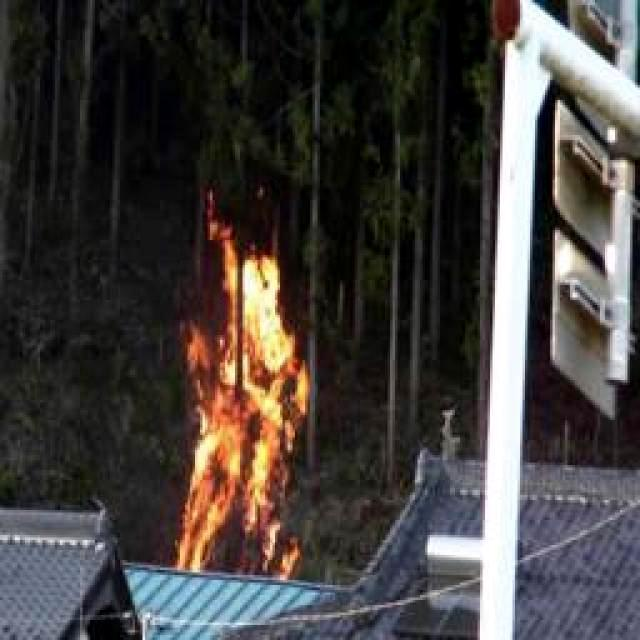fire: (168, 208, 316, 580)
